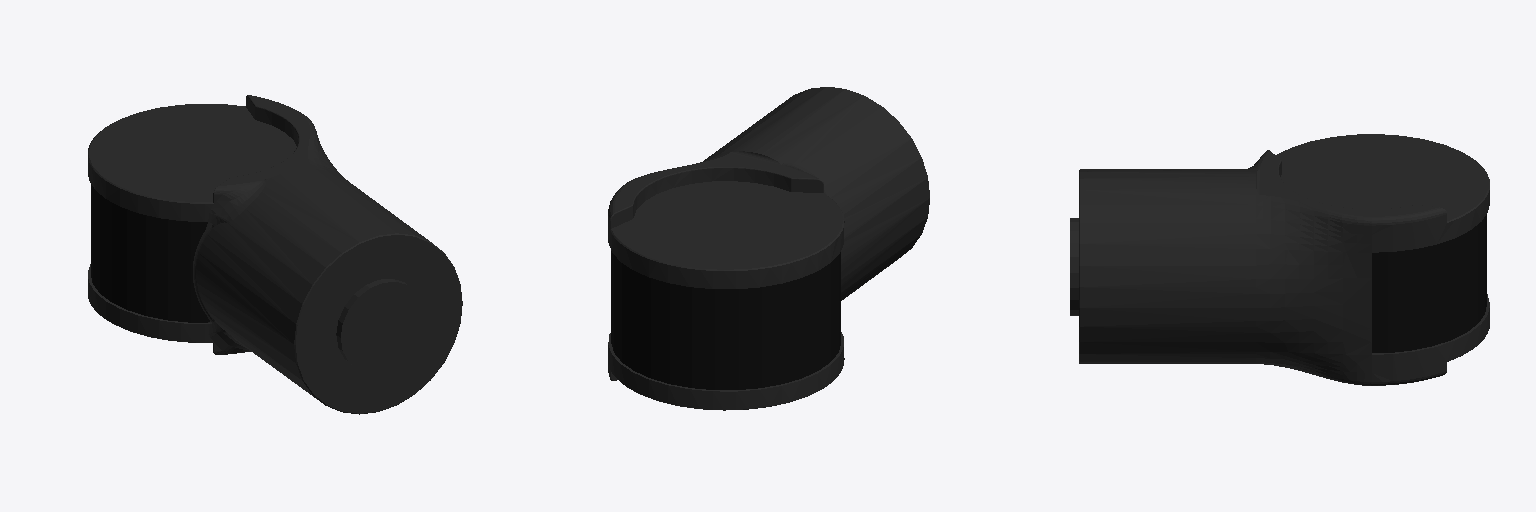
File: Hip_yaw.obj
3 views of the same model, side by side, from view 1: azimuth 30°, elevation 25°; view 2: azimuth 150°, elevation 25°; view 3: azimuth 270°, elevation 25° (orthographic).
Visible parts, largest first — view 1: Hip_Yaw; view 2: Hip_Yaw; view 3: Hip_Yaw.
Part boxes in pixels (bbox=[...]): Hip_Yaw: bbox=[88, 95, 462, 414]; Hip_Yaw: bbox=[608, 87, 929, 410]; Hip_Yaw: bbox=[1070, 134, 1489, 385].
Size of the model in its own units: 0.1125 by 0.089 by 0.192.